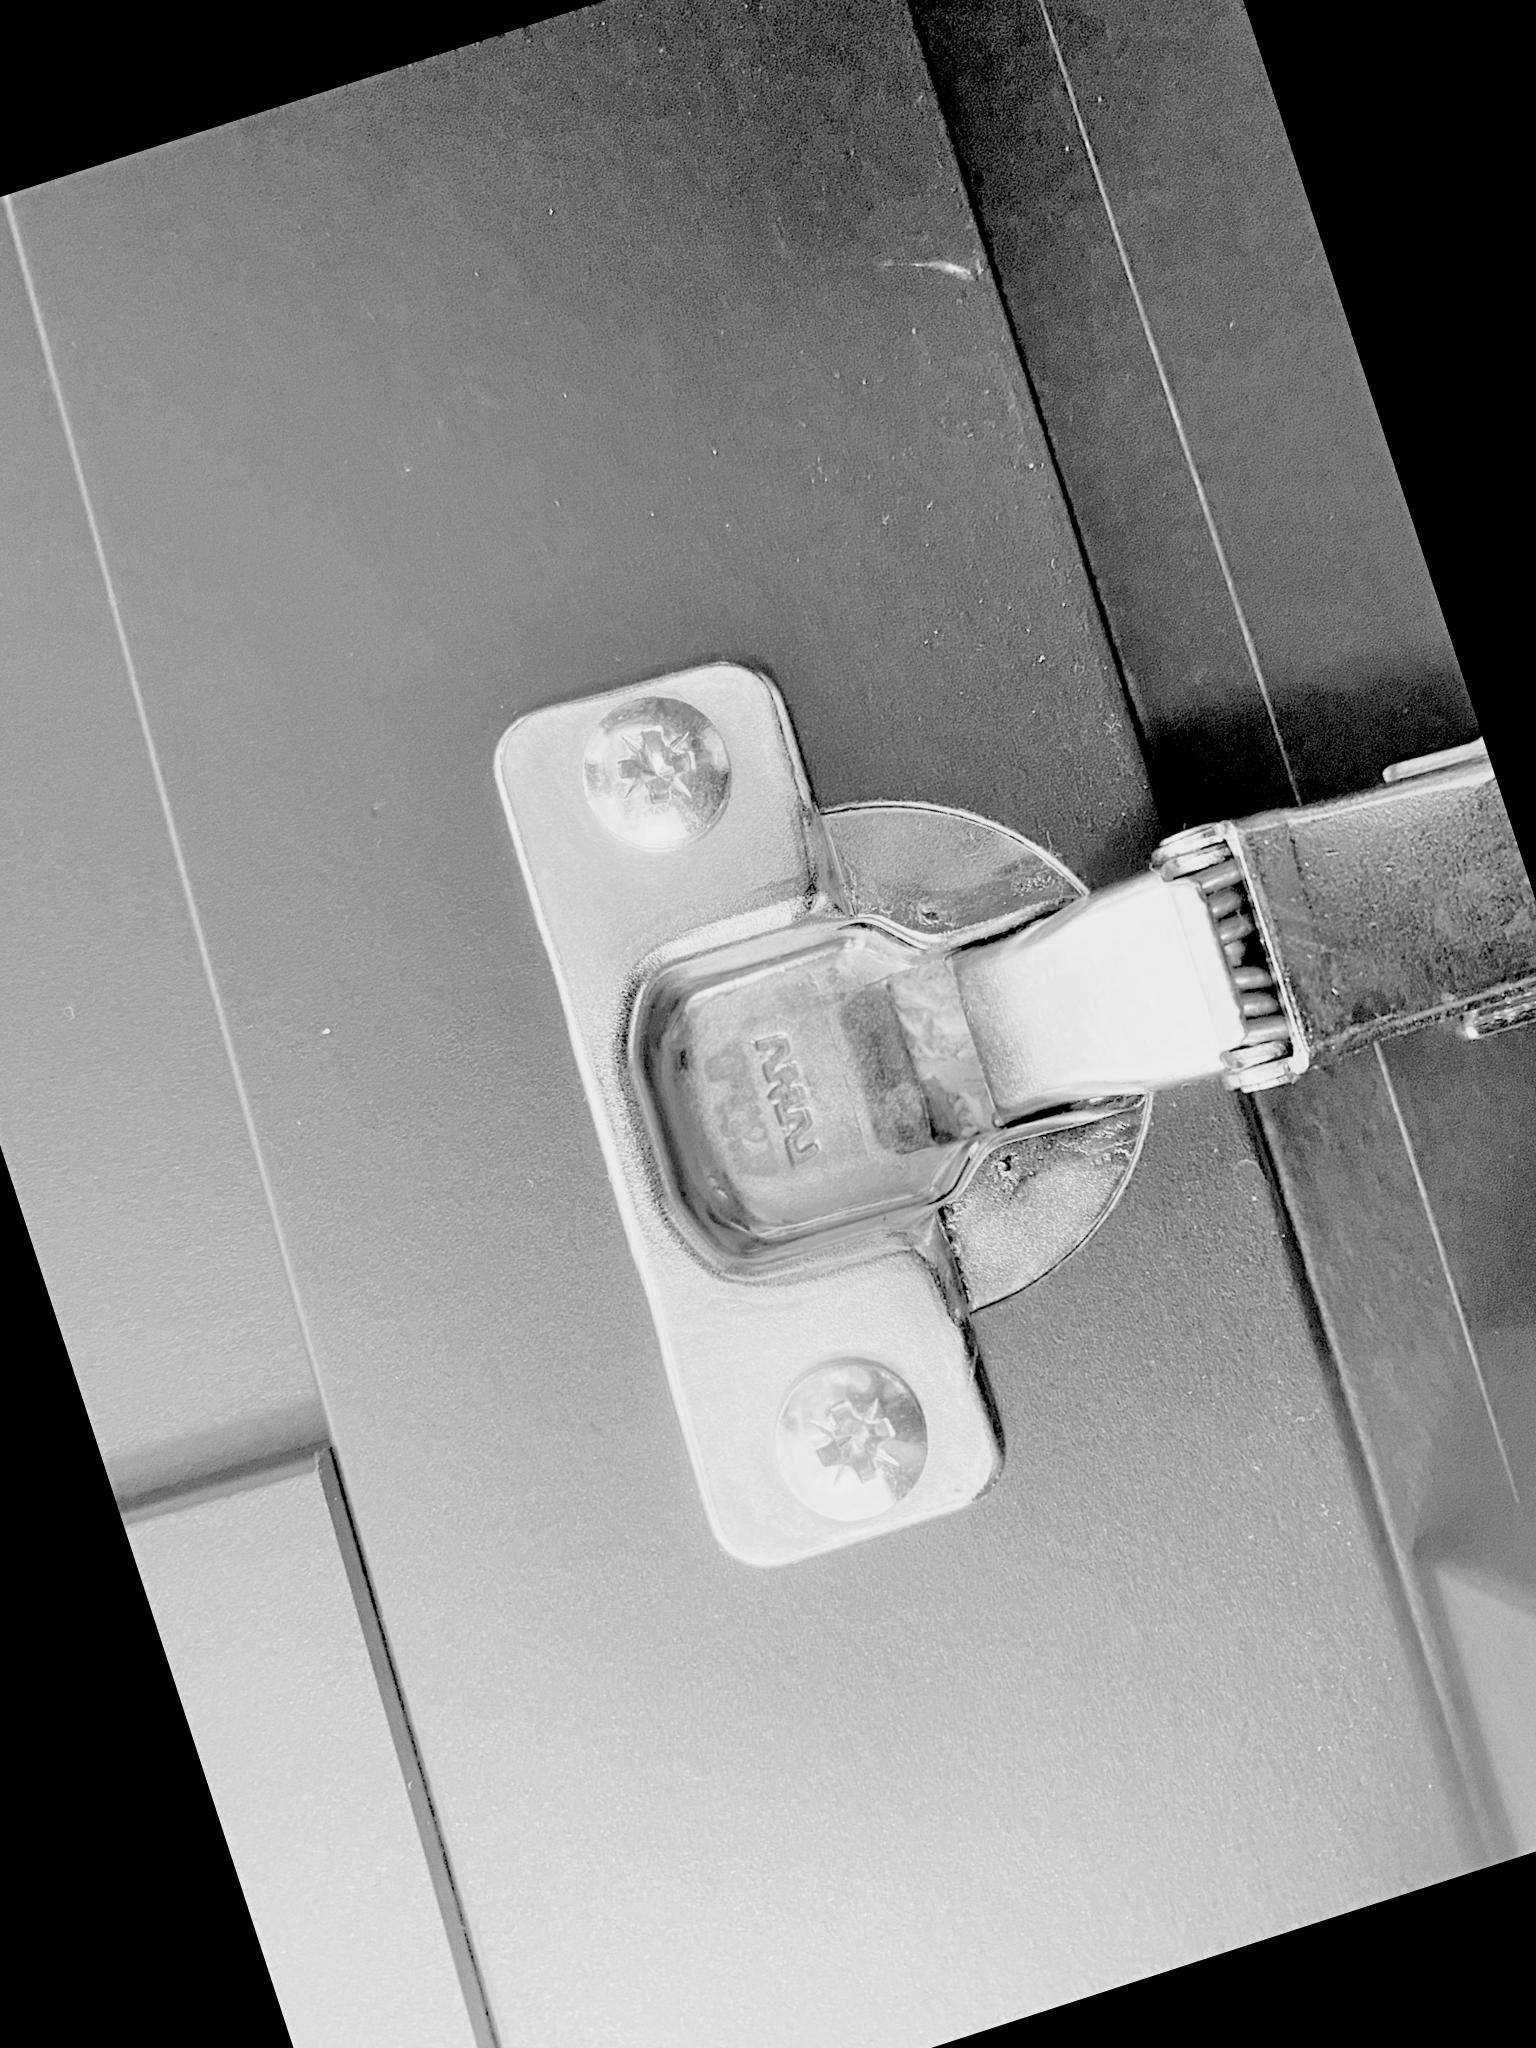screw: (753, 1340, 949, 1543), (558, 674, 753, 872)
